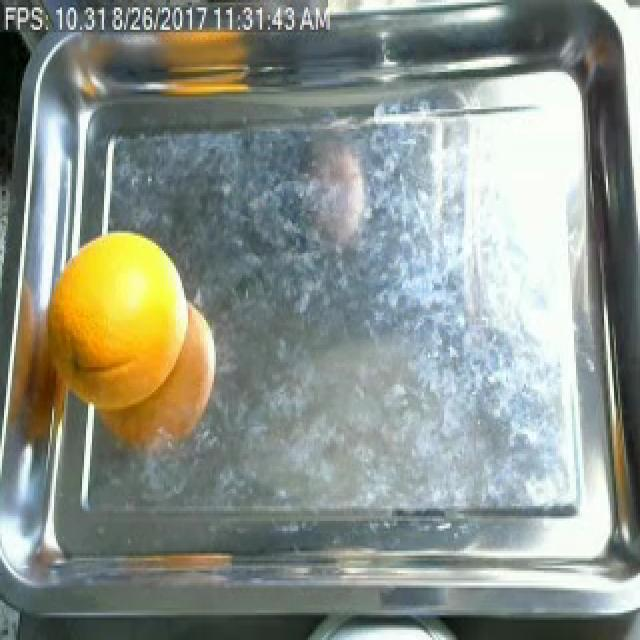Fruit: (46, 216, 200, 459), (140, 20, 258, 97)
